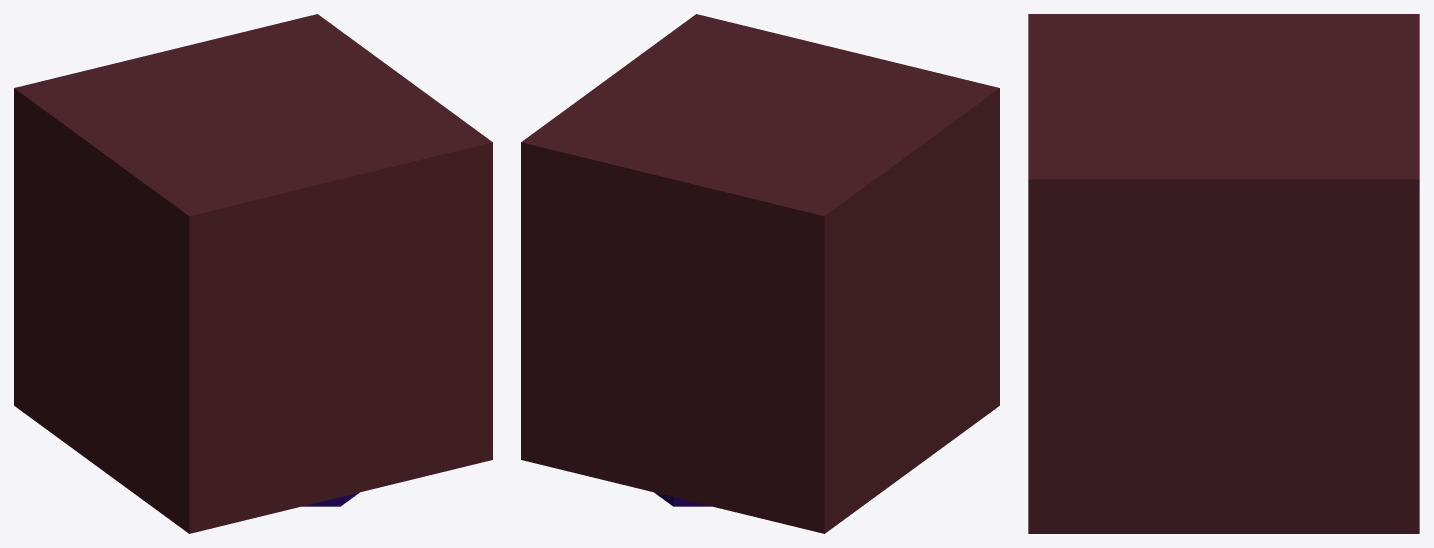
Rendered from trampafuego.fbx.
The picture shows the model from 3 angles, left to right: view 1: azimuth 30°, elevation 25°; view 2: azimuth 150°, elevation 25°; view 3: azimuth 270°, elevation 25°; orthographic projection. The views are drawn at different scales.
Visible parts, largest first — view 1: Cylinder; view 2: Cylinder; view 3: Cylinder.
Part boxes in pixels (left/top/right/bottom): Cylinder: left=14, top=14, right=492, bottom=533; Cylinder: left=521, top=14, right=999, bottom=533; Cylinder: left=1028, top=14, right=1419, bottom=533.
Size of the model in its own units: 200 by 218 by 200.
